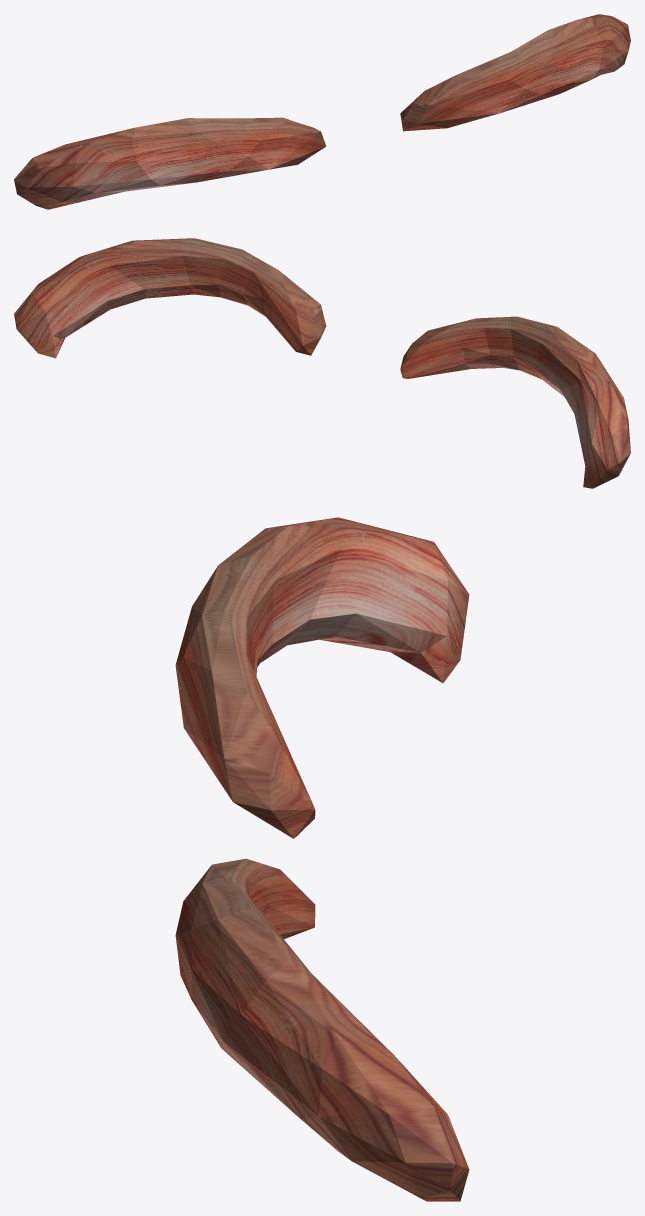
File: Brow.obj
3 views of the same model, one above another, from view 1: azimuth 30°, elevation 25°; view 2: azimuth 150°, elevation 25°; view 3: azimuth 270°, elevation 25° (orthographic). The views are drawn at different scales.
Parts seen in each view (by area): view 1: Musculos_Cabeza_1:Brow_Fat1; view 2: Musculos_Cabeza_1:Brow_Fat1; view 3: Musculos_Cabeza_1:Brow_Fat1.
Part boxes in pixels (left/top/right/bottom): Musculos_Cabeza_1:Brow_Fat1: left=14, top=14, right=630, bottom=209; Musculos_Cabeza_1:Brow_Fat1: left=14, top=238, right=630, bottom=488; Musculos_Cabeza_1:Brow_Fat1: left=175, top=517, right=469, bottom=1201.
Size of the model in its own units: 0.4522 by 0.0745 by 0.0949.
1 material, 1 textured.
